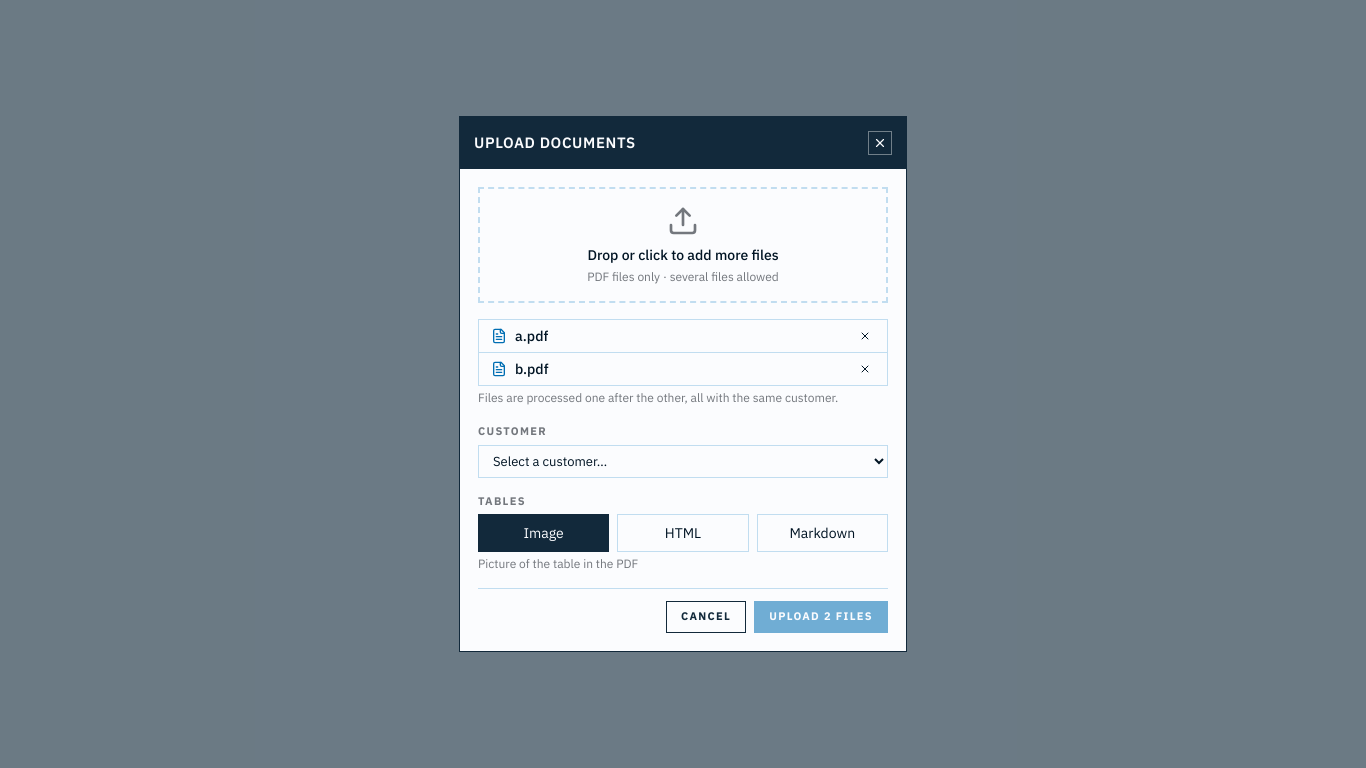
it: UploadDialog › uploads several files one after the other with the same customer and table mode
Expected: the text "a.pdf" is shown, [515,327,548,345]
Expected: the text "b.pdf" is shown, [515,360,548,378]
Select "Airbus" in the dropdown labelled "Customer" at point(683, 462), box [478,445,888,478]
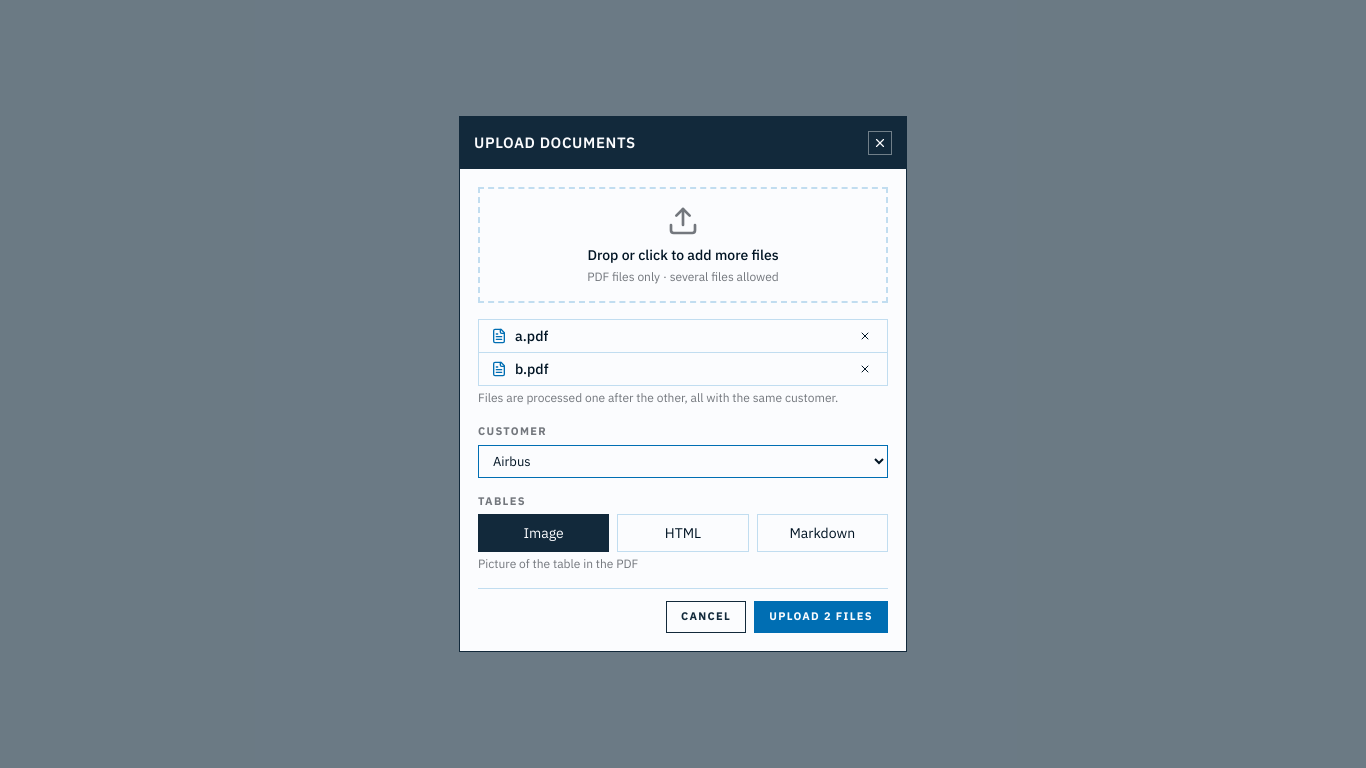
Click the radio button labelled "HTML" at point(683, 533), box [617,514,749,552]
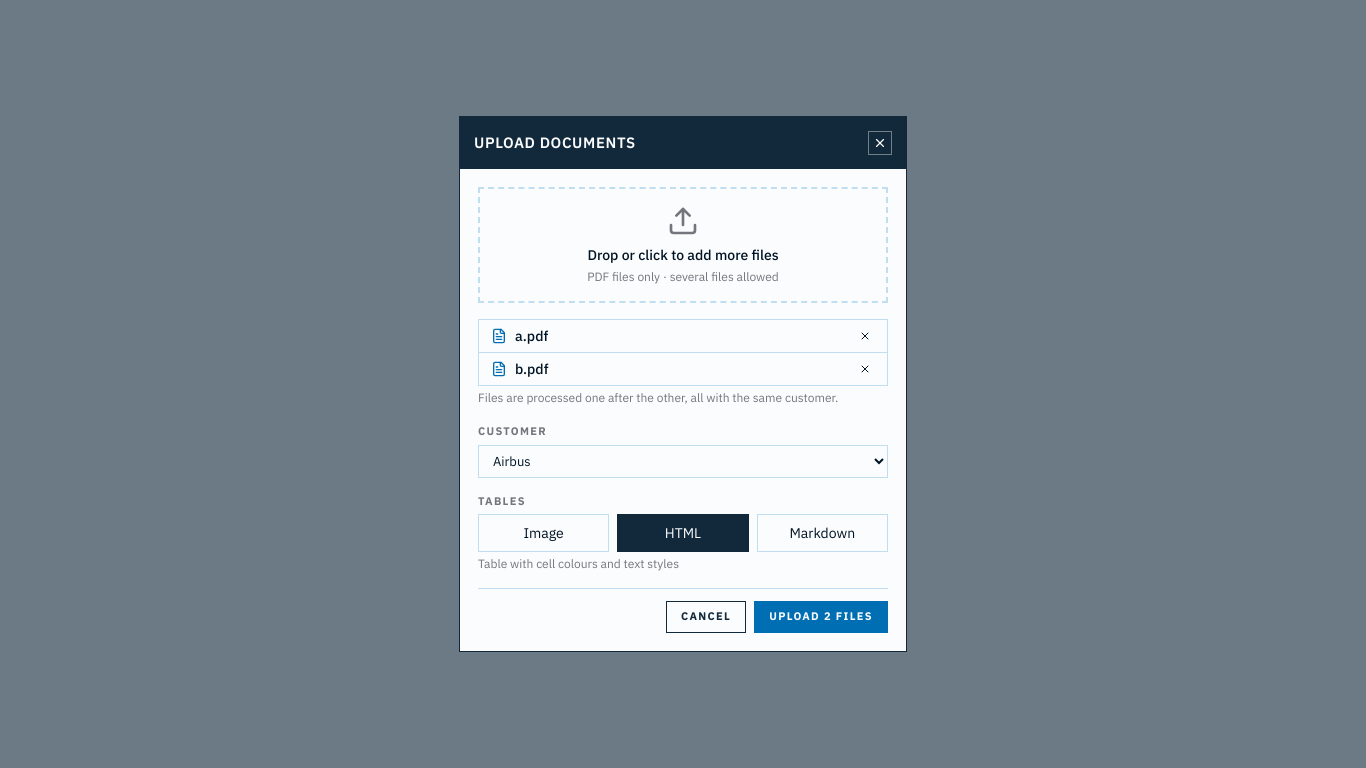
Click the button "Upload 2 files" at point(821, 617), box [754,601,888,633]
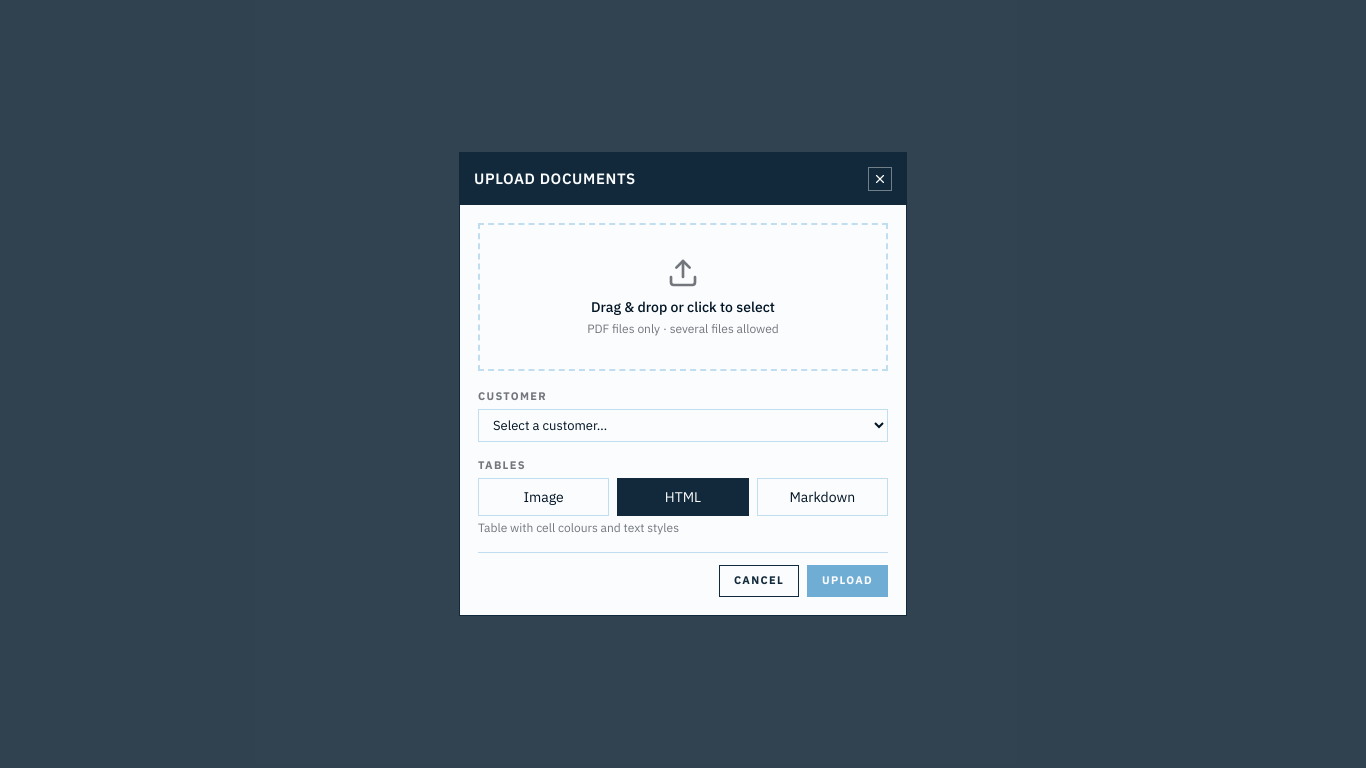
Expected: the text "File 2 of 2 · b.pdf" is shown, [612,294,754,309]
